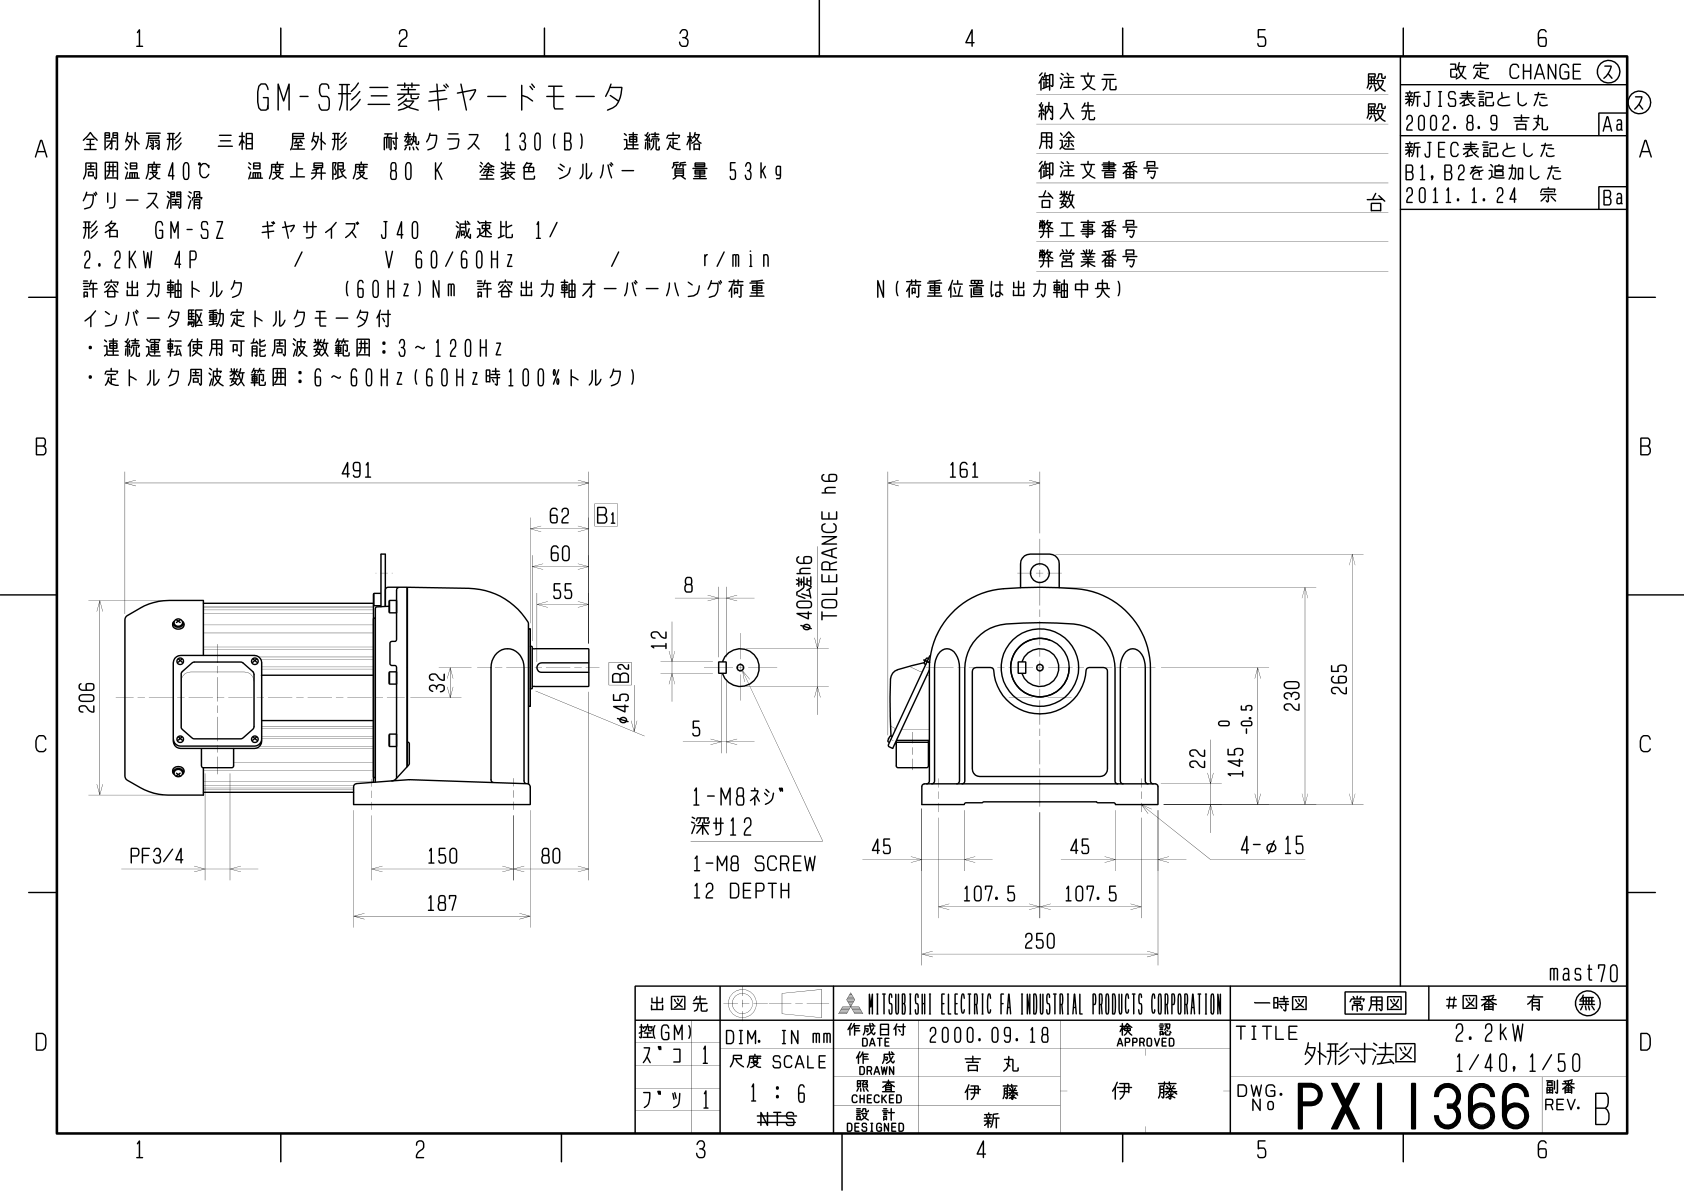GM_S_インバタ屋外＿三相_脚: (67, 427, 1383, 974)
